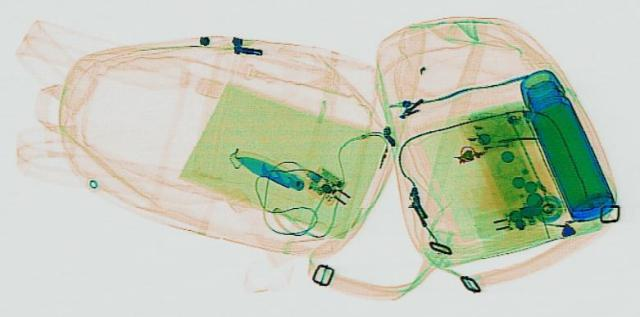Knife: (222, 152, 316, 191)
